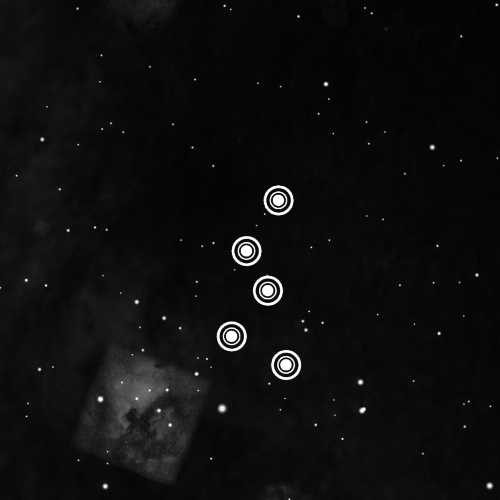cassiopeia: (197, 171, 310, 391)
